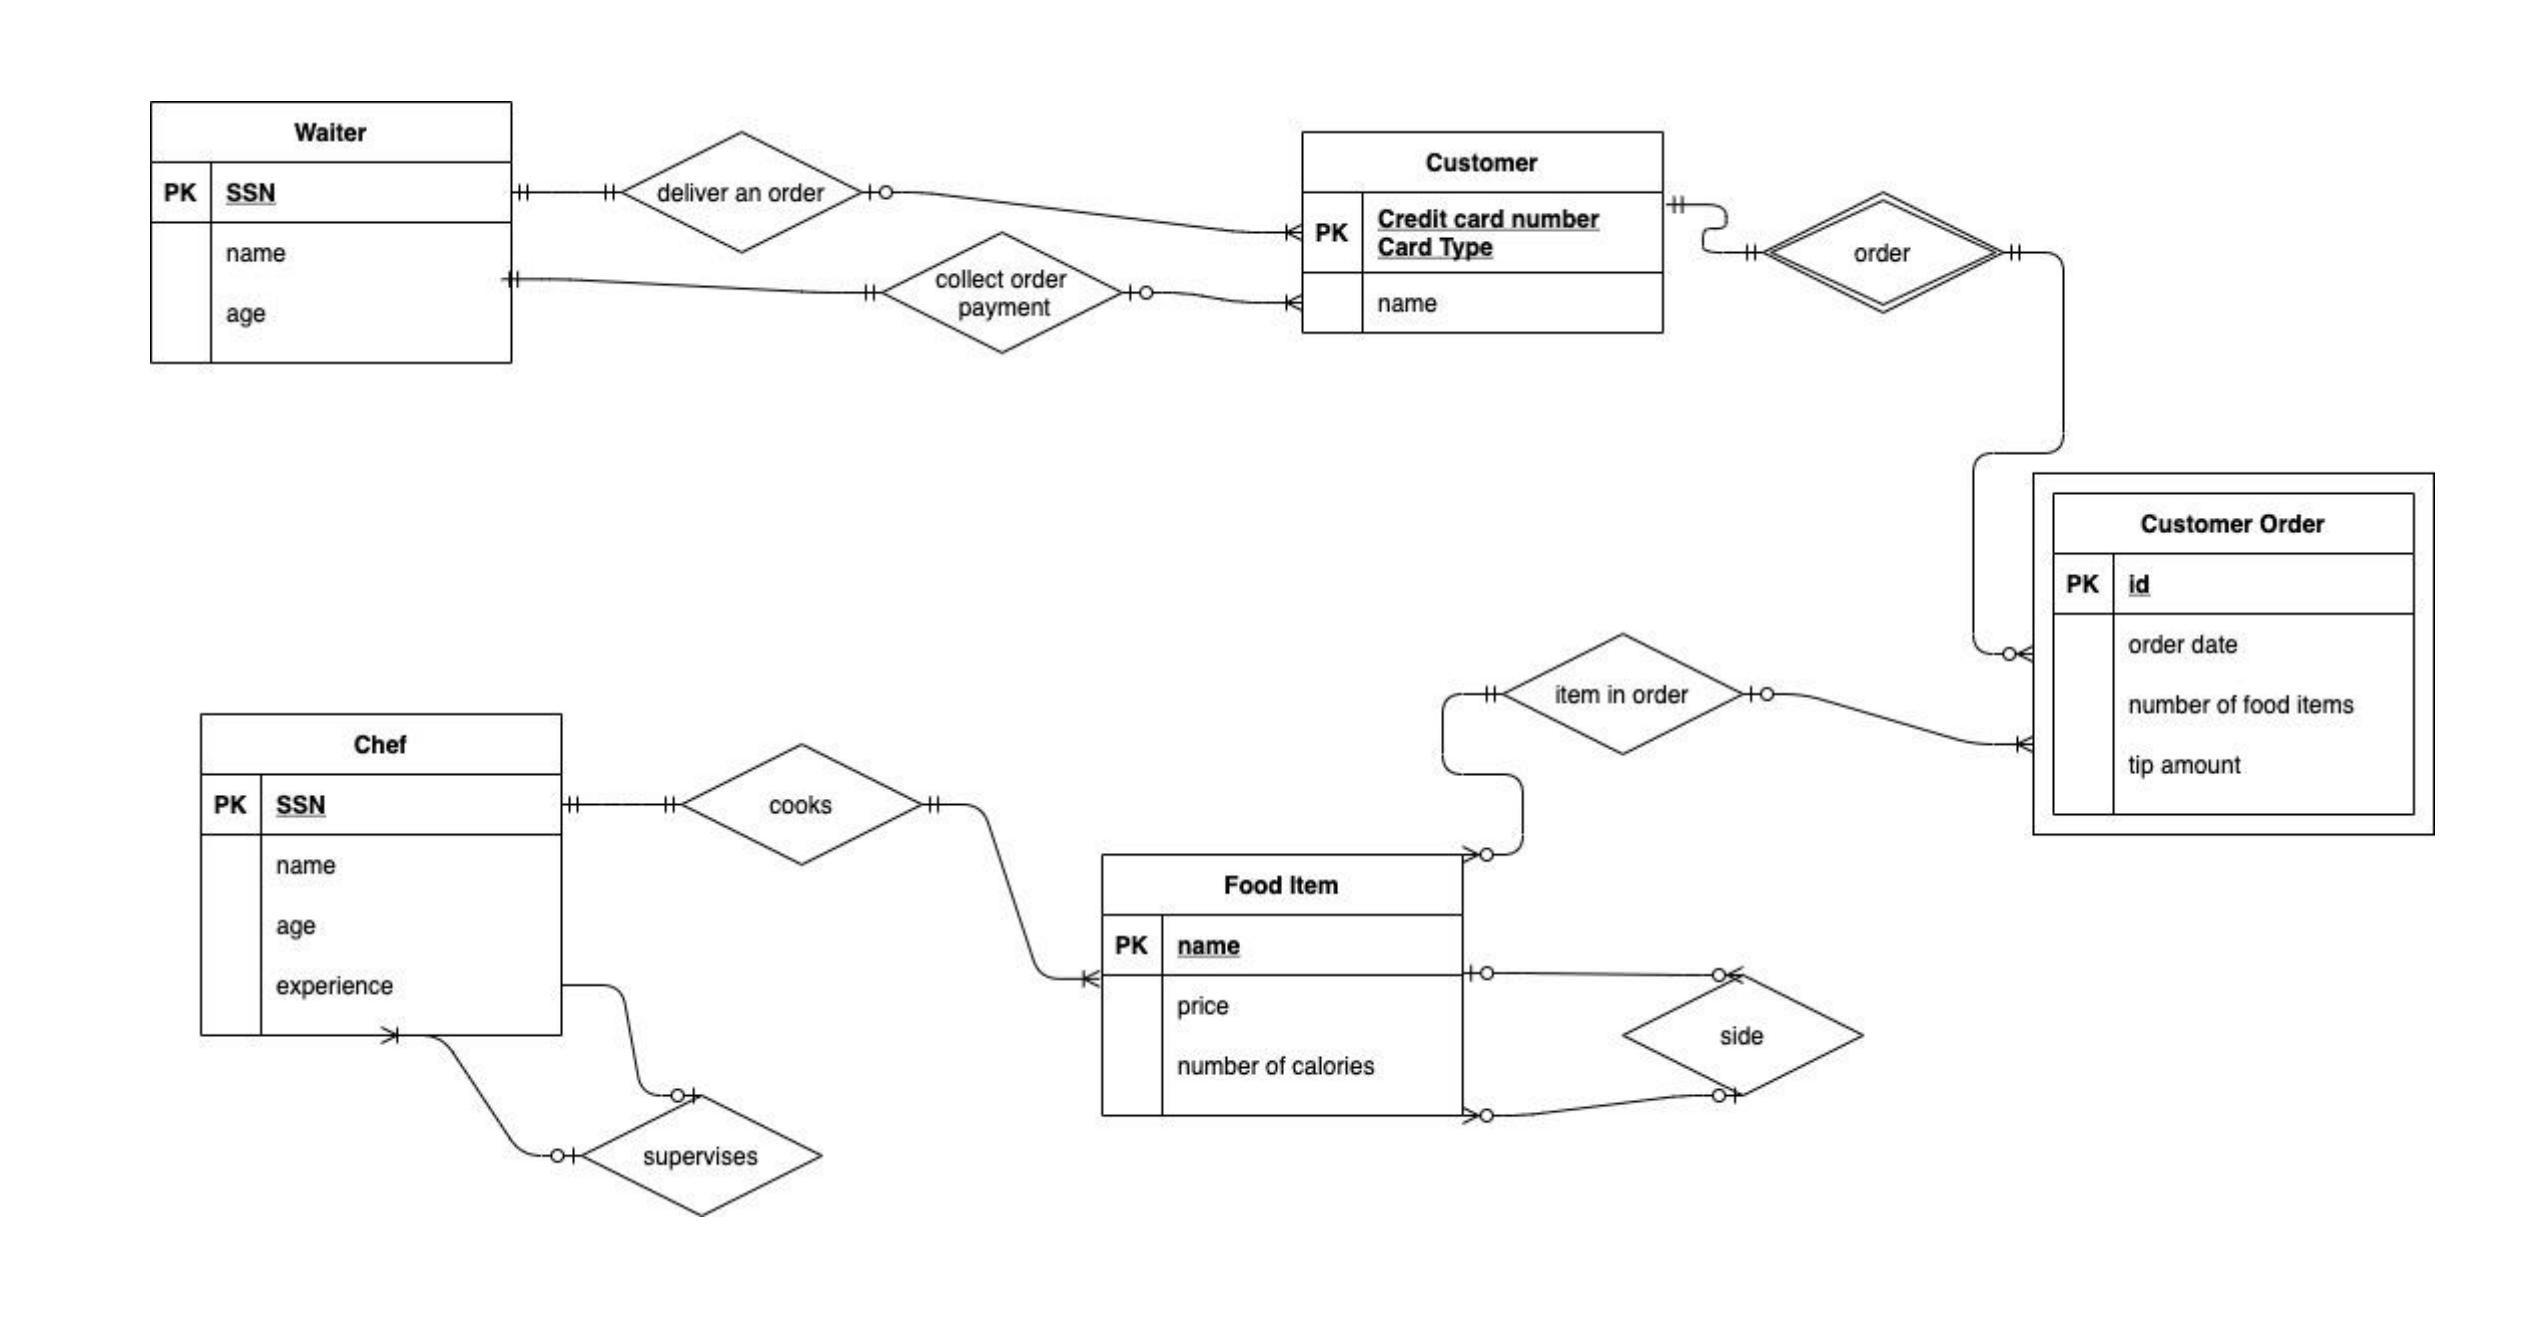Entity: (2040, 479, 2420, 826), (196, 706, 569, 1048), (1099, 847, 1474, 1125), (148, 96, 513, 369), (1297, 126, 1671, 334)
Relationship: (884, 221, 1120, 365), (570, 1091, 827, 1220), (621, 126, 865, 258), (674, 739, 921, 868), (1763, 193, 2008, 315), (1617, 981, 1870, 1098), (1511, 632, 1741, 753)
